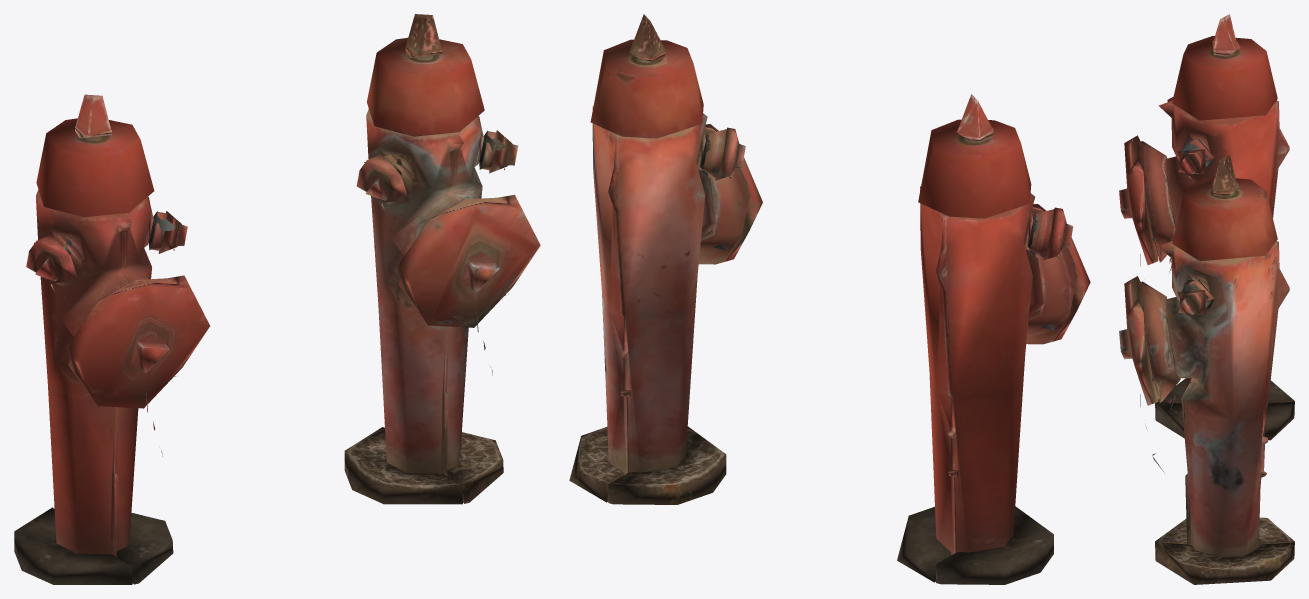
The model's file is fire_hydrant.glb.
3 views of the same model, side by side, from view 1: azimuth 30°, elevation 25°; view 2: azimuth 150°, elevation 25°; view 3: azimuth 270°, elevation 25° (orthographic). The views are drawn at different scales.
Parts seen in each view (by area): view 1: fire_hydrant_aged, fire_hydrant; view 2: fire_hydrant_aged, fire_hydrant; view 3: fire_hydrant_aged, fire_hydrant.
Boxes of the visible parts, <box> form: fire_hydrant_aged: <box>344,14,540,504</box>; fire_hydrant: <box>14,94,209,584</box>; fire_hydrant_aged: <box>569,14,762,504</box>; fire_hydrant: <box>897,94,1090,584</box>; fire_hydrant_aged: <box>1119,154,1294,584</box>; fire_hydrant: <box>1119,14,1294,440</box>.
Size of the model in its own units: 0.8728 by 0.7992 by 0.3173.
2 materials, 2 textured.
